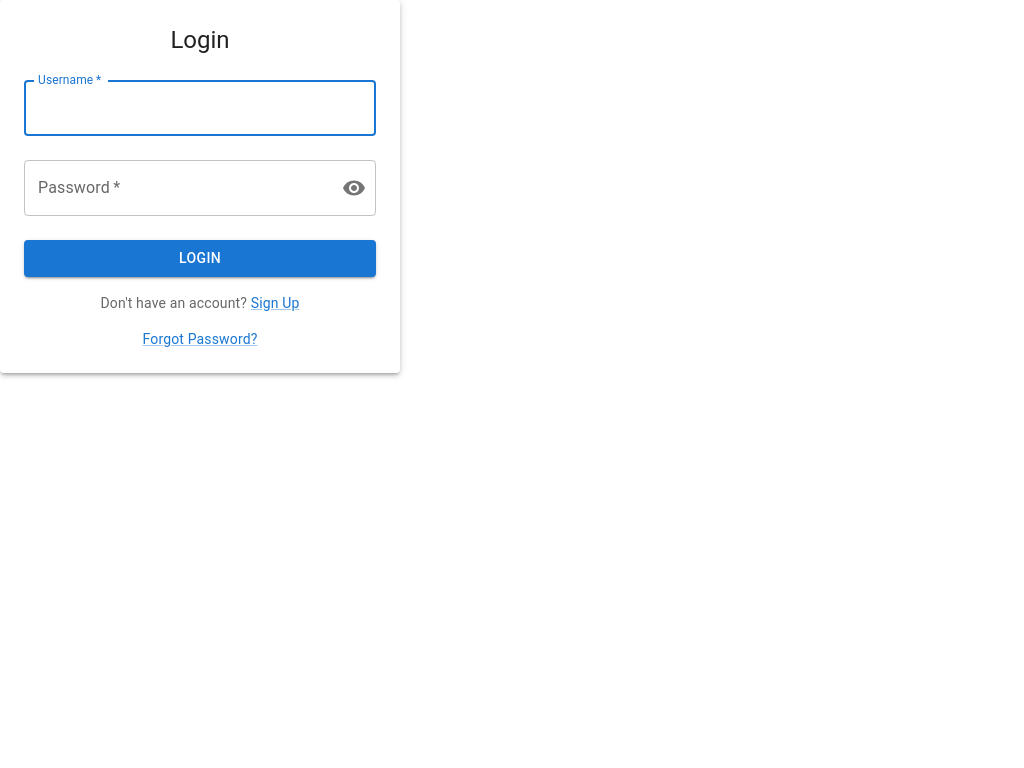
Test: LoginForm component › should display error message on login failure
Type "test@example.com" into the field with test id "input-username". click: (200, 108)
box: x1=24 y1=80 x2=376 y2=136
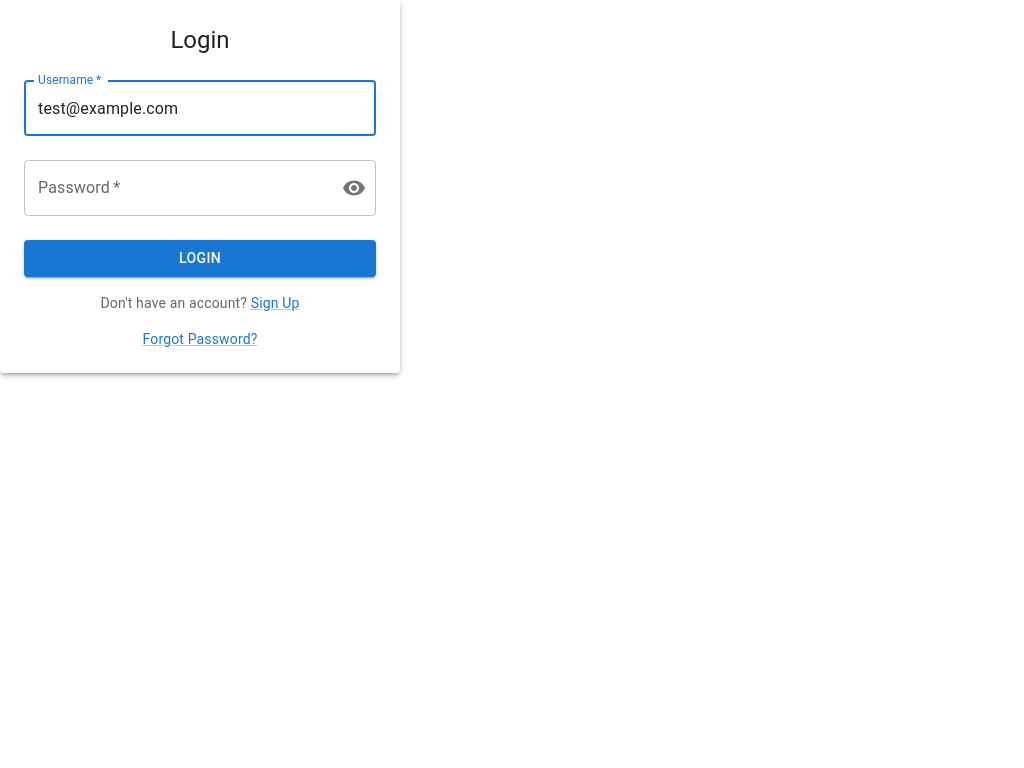
Type "password123" into the password field with test id "input-password". click: (175, 188)
box: x1=24 y1=160 x2=326 y2=216
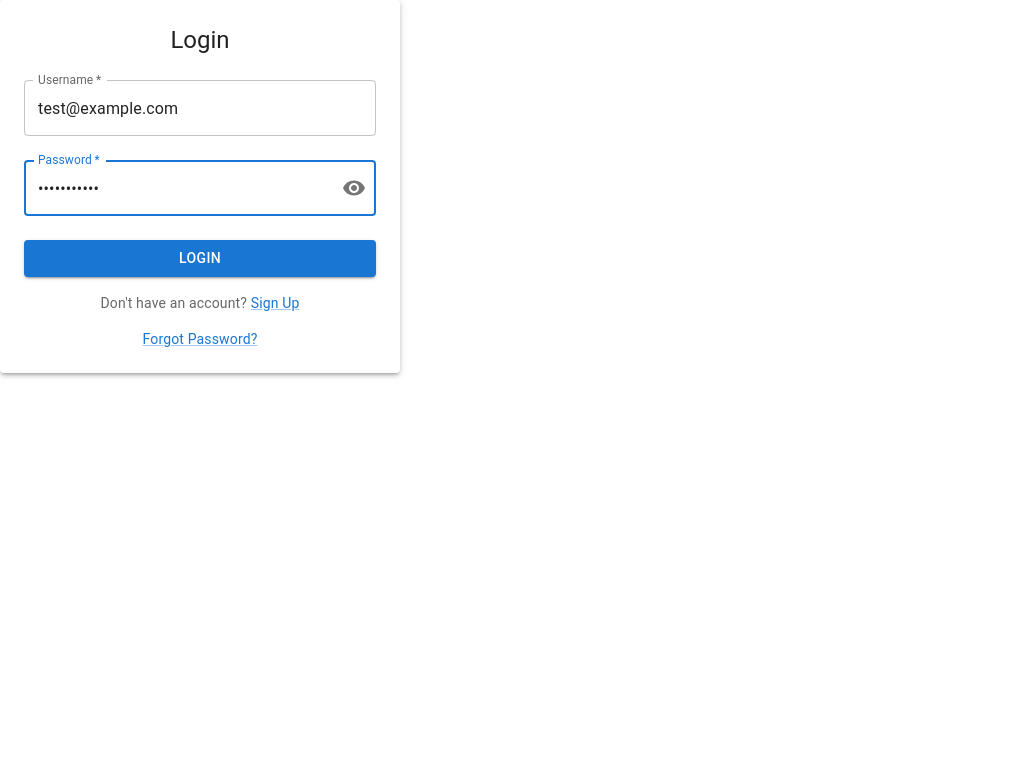
Click the button with test id "submit". click: (200, 259)
box: x1=24 y1=240 x2=376 y2=277
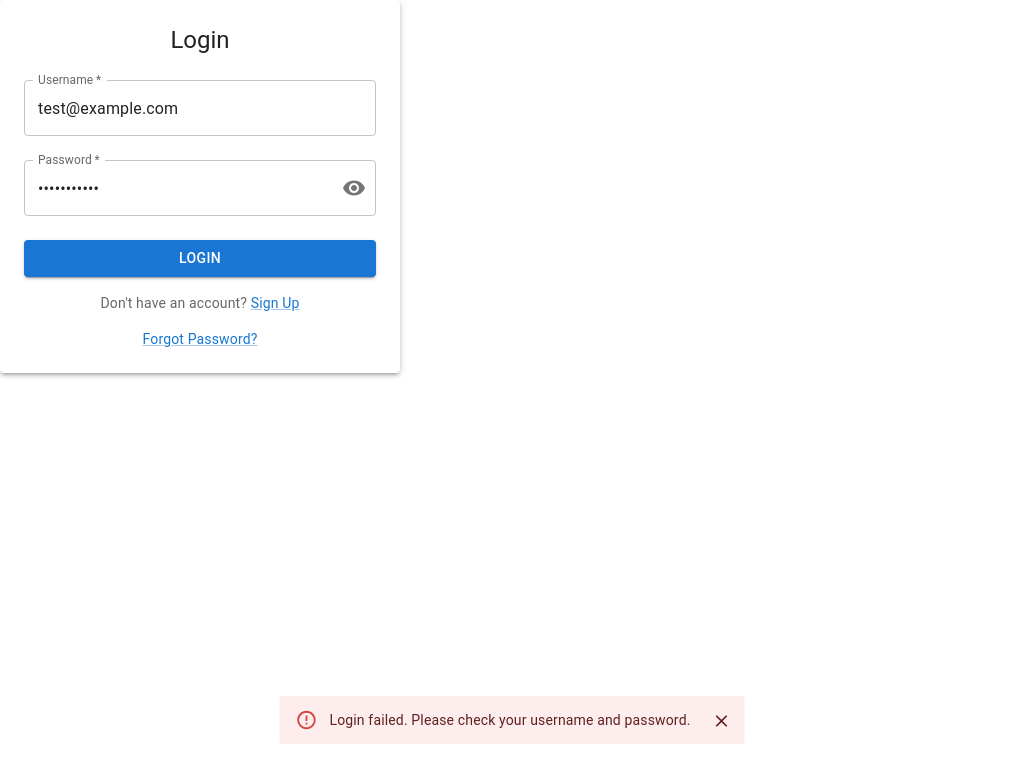
Now the message "Login failed. Please check your username and password." is shown, box x1=280 y1=696 x2=744 y2=744
Now the text "Login failed. Please check your username and password." is shown, box x1=330 y1=712 x2=690 y2=728
Click the button named "Close". click: (722, 721)
box: x1=706 y1=706 x2=736 y2=736
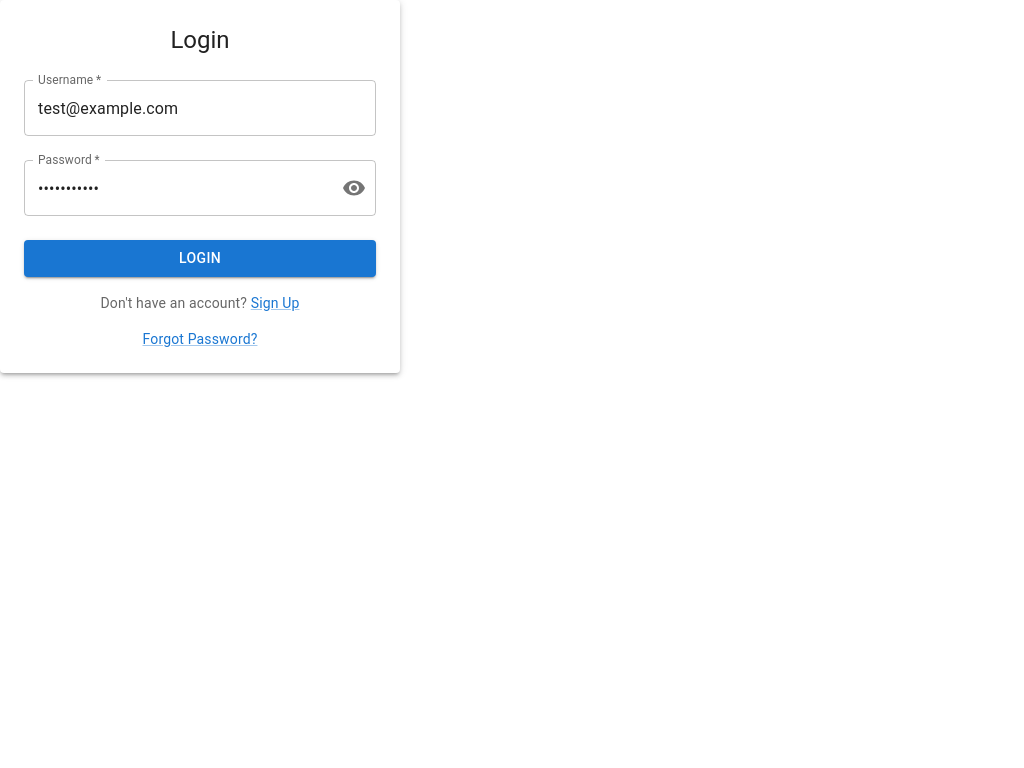
Now the element with test id "snackbar" is gone
Now the message with test id "alert" is gone
Now the text "Login failed. Please check your username and password." is gone
